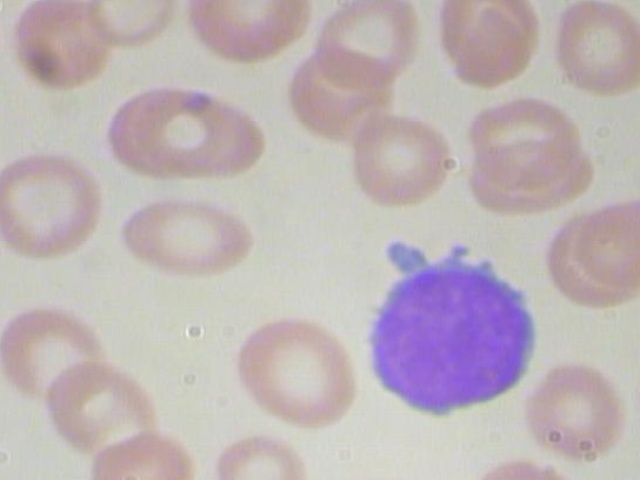RBC: (228, 312, 368, 433), (130, 82, 271, 183), (116, 185, 257, 277), (42, 360, 170, 460), (0, 148, 103, 266), (339, 108, 457, 211), (459, 91, 583, 188), (304, 0, 428, 94), (4, 0, 123, 93), (0, 304, 109, 404), (527, 357, 626, 462), (434, 0, 548, 90), (543, 0, 640, 98), (184, 0, 313, 68), (569, 191, 640, 287), (91, 421, 203, 480)
WBC: (347, 227, 558, 426)
